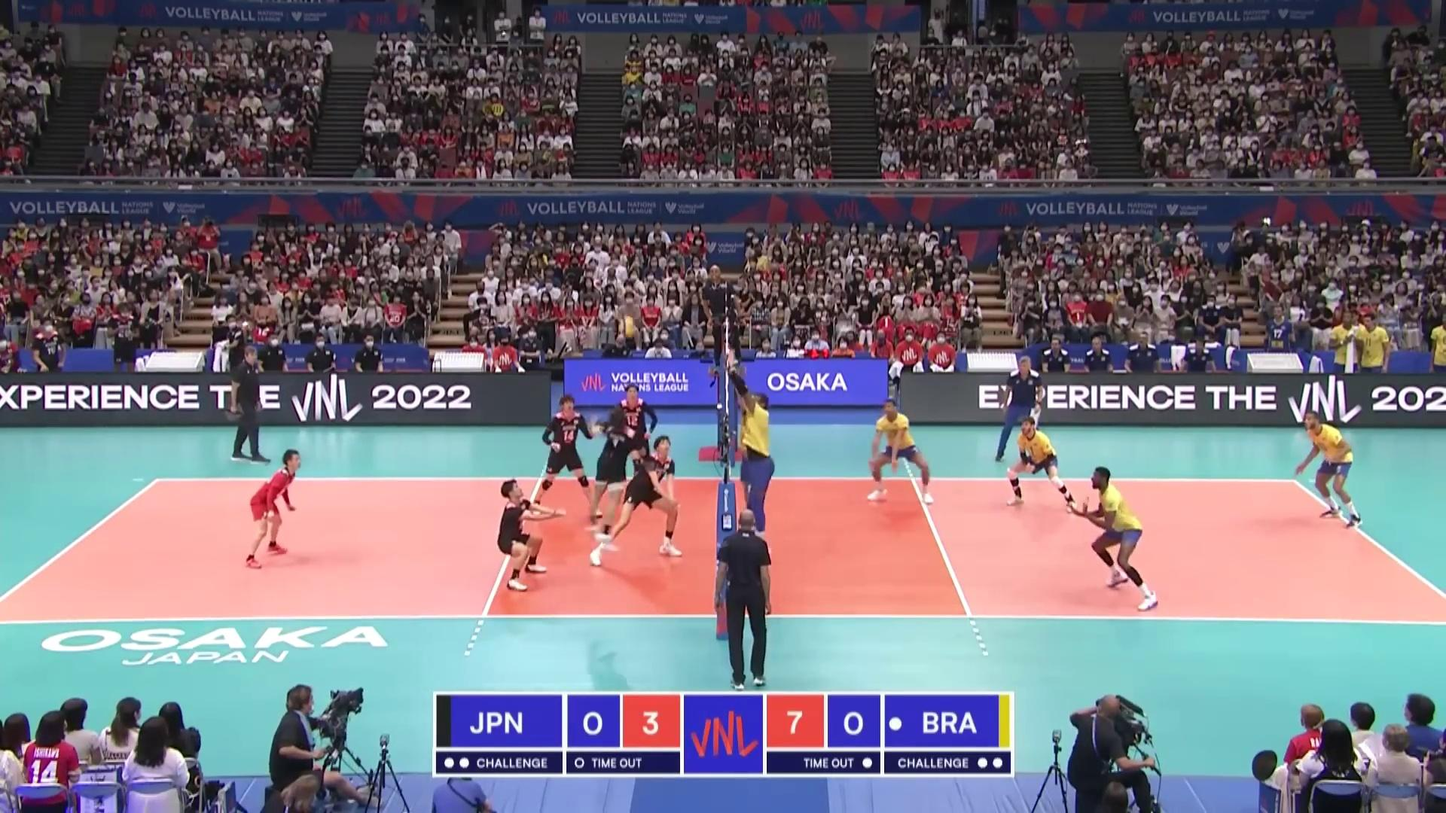player: (593, 436, 684, 567), (1082, 467, 1159, 609), (530, 395, 603, 522), (583, 411, 646, 549), (864, 402, 932, 508), (1300, 410, 1361, 528), (498, 482, 561, 591), (1004, 417, 1076, 512), (246, 451, 301, 564), (611, 385, 660, 505), (736, 390, 772, 551)
refree: (717, 512, 776, 689), (704, 265, 744, 364)
